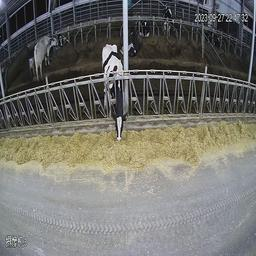cow: (102, 42, 126, 142), (34, 33, 57, 81), (160, 3, 177, 38), (128, 22, 139, 57), (138, 16, 152, 40), (207, 28, 222, 49), (56, 29, 69, 47)
